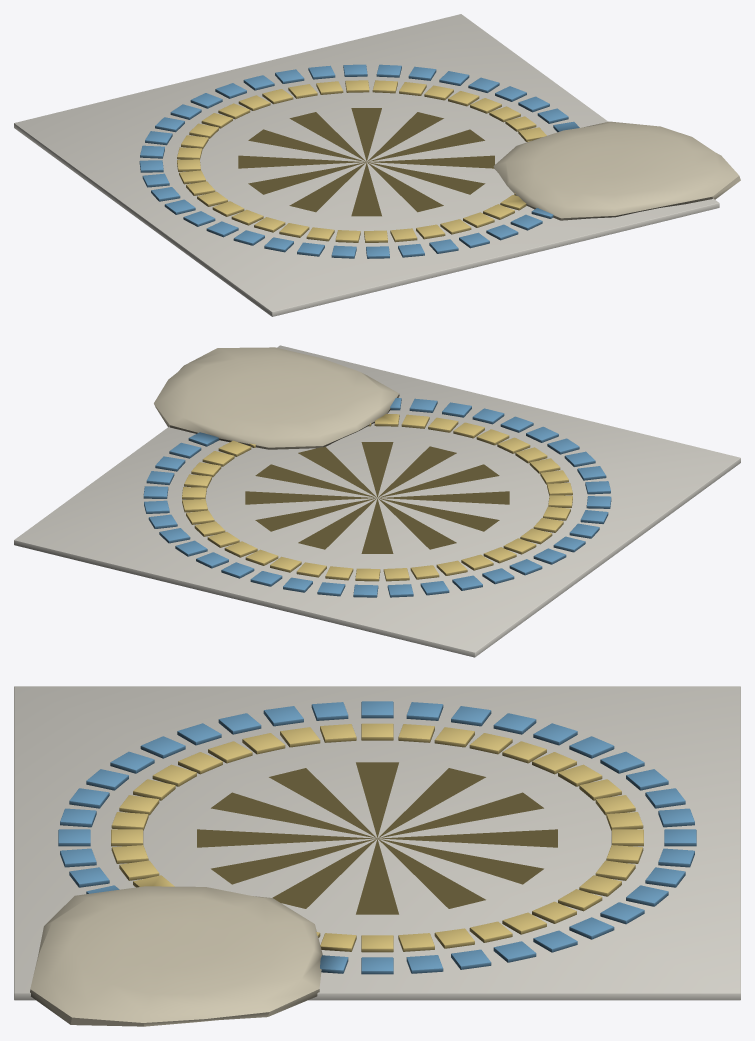
The model's file is mosaic.glb.
The picture shows the model from 3 angles, top to bottom: view 1: azimuth 30°, elevation 25°; view 2: azimuth 150°, elevation 25°; view 3: azimuth 270°, elevation 25°; orthographic projection. The views are drawn at different scales.
Visible parts, largest first — view 1: boat_marble, boat_mosaic2, boat_sand.001, boat_mosaic1; view 2: boat_marble, boat_mosaic2, boat_sand.001, boat_mosaic1; view 3: boat_marble, boat_mosaic2, boat_sand.001, boat_mosaic1.
Part boxes in pixels (left/top/right/bottom): boat_marble: left=14, top=14, right=719, bottom=316; boat_mosaic2: left=177, top=80, right=546, bottom=242; boat_sand.001: left=493, top=121, right=740, bottom=220; boat_mosaic1: left=139, top=64, right=579, bottom=258; boat_marble: left=14, top=345, right=740, bottom=657; boat_mosaic2: left=182, top=414, right=572, bottom=581; boat_sand.001: left=154, top=347, right=399, bottom=449; boat_mosaic1: left=143, top=398, right=611, bottom=597; boat_marble: left=14, top=686, right=740, bottom=1000; boat_mosaic2: left=111, top=723, right=643, bottom=952; boat_sand.001: left=30, top=886, right=322, bottom=1026; boat_mosaic1: left=58, top=701, right=696, bottom=974.
Size of the model in its own units: 1.99 by 0.0954 by 1.8.
